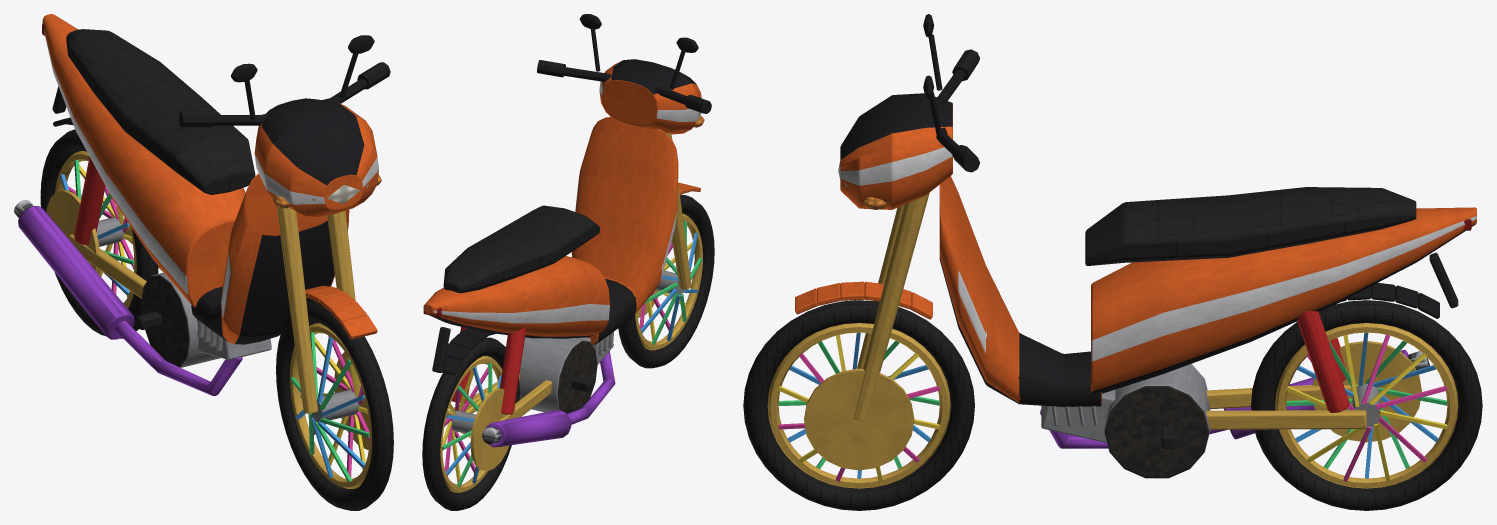
The model's file is ThaiRacingMoto.fbx.
3 renders of one model, left to right at view 1: azimuth 30°, elevation 25°; view 2: azimuth 150°, elevation 25°; view 3: azimuth 270°, elevation 25°, orthographic. The views are drawn at different scales.
Parts seen in each view (by area): view 1: ThaiRacingMoto, ThaiRacingMoto_Handlebar, Wheel_F, Wheel_R; view 2: ThaiRacingMoto, Wheel_R, ThaiRacingMoto_Handlebar, Wheel_F; view 3: ThaiRacingMoto, Wheel_F, Wheel_R, ThaiRacingMoto_Handlebar.
Part boxes in pixels (<box>): ThaiRacingMoto: <box>14,14,349,395</box>; ThaiRacingMoto_Handlebar: <box>179,35,390,413</box>; Wheel_F: <box>276,301,393,510</box>; Wheel_R: <box>40,129,158,338</box>; ThaiRacingMoto: <box>423,117,678,447</box>; Wheel_R: <box>422,337,519,510</box>; ThaiRacingMoto_Handlebar: <box>537,14,711,289</box>; Wheel_F: <box>618,195,714,368</box>; ThaiRacingMoto: <box>939,176,1476,478</box>; Wheel_F: <box>743,300,974,510</box>; Wheel_R: <box>1251,300,1482,510</box>; ThaiRacingMoto_Handlebar: <box>795,14,979,421</box>.
Size of the model in its own units: 59.14 by 117 by 169.
1 material, 1 textured.
